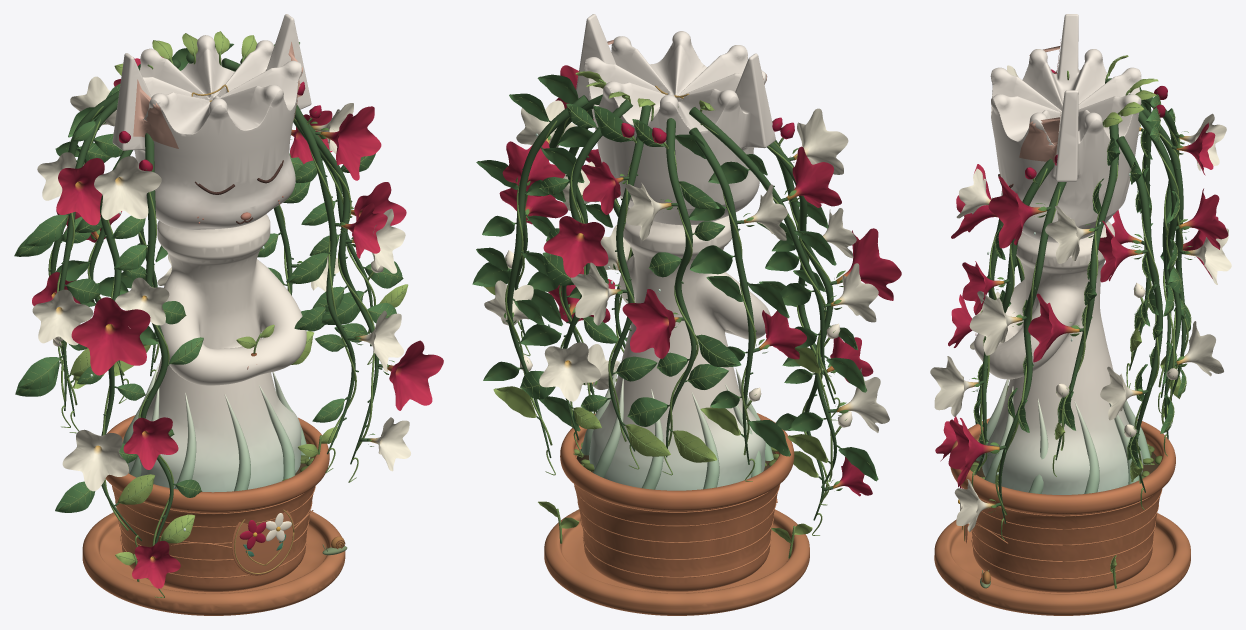
The model's file is mandevilla-living-presence.court.glb.
3 renders of one model, left to right at view 1: azimuth 30°, elevation 25°; view 2: azimuth 150°, elevation 25°; view 3: azimuth 270°, elevation 25°, orthographic. The views are drawn at different scales.
Parts seen in each view (by area): view 1: Anatomy | continuous queen torso and nurturing meditating pa, Anatomy | integral scalloped queen skull and cat ears, Flowers | red five-lobed trumpet flowers, Flowers | white five-lobed trumpet flowers, Earthwork | warm terracotta planter with open interior, Left garden | cupped living leaves, Earthwork | broad hand-thrown saucer, Right garden | cupped living leaves, Left garden | flowing crown-born stems, Right garden | flowing crown-born stems, Emergence | soft root flutes becoming ivory clay, Back garden | cupped living leaves (+10 smaller); view 2: Anatomy | integral scalloped queen skull and cat ears, Earthwork | warm terracotta planter with open interior, Anatomy | continuous queen torso and nurturing meditating pa, Flowers | red five-lobed trumpet flowers, Flowers | white five-lobed trumpet flowers, Left garden | cupped living leaves, Back garden | cupped living leaves, Earthwork | broad hand-thrown saucer, Right garden | cupped living leaves, Left garden | flowing crown-born stems, Back garden | flowing crown-born stems, Right garden | flowing crown-born stems (+11 smaller); view 3: Anatomy | continuous queen torso and nurturing meditating pa, Anatomy | integral scalloped queen skull and cat ears, Earthwork | warm terracotta planter with open interior, Flowers | red five-lobed trumpet flowers, Flowers | white five-lobed trumpet flowers, Earthwork | broad hand-thrown saucer, Right garden | flowing crown-born stems, Back garden | flowing crown-born stems, Emergence | soft root flutes becoming ivory clay, Right garden | cupped living leaves, Back garden | cupped living leaves, Right garden | winding companion tendrils (+12 smaller).
Boxes of the visible parts, box(x1,y1,x2,y2) form: Anatomy | continuous queen torso and nurturing meditating pa: box(127, 214, 306, 492); Anatomy | integral scalloped queen skull and cat ears: box(112, 14, 311, 229); Flowers | red five-lobed trumpet flowers: box(32, 58, 443, 588); Flowers | white five-lobed trumpet flowers: box(32, 76, 410, 491); Earthwork | warm terracotta planter with open interior: box(105, 415, 329, 591); Left garden | cupped living leaves: box(14, 83, 203, 543); Earthwork | broad hand-thrown saucer: box(82, 510, 345, 615); Right garden | cupped living leaves: box(257, 42, 408, 422); Left garden | flowing crown-born stems: box(50, 90, 173, 544); Right garden | flowing crown-born stems: box(221, 58, 379, 464); Emergence | soft root flutes becoming ivory clay: box(122, 364, 310, 491); Back garden | cupped living leaves: box(55, 43, 233, 388); Anatomy | integral scalloped queen skull and cat ears: box(576, 14, 775, 225); Earthwork | warm terracotta planter with open interior: box(560, 413, 794, 591); Anatomy | continuous queen torso and nurturing meditating pa: box(589, 207, 770, 490); Flowers | red five-lobed trumpet flowers: box(499, 65, 901, 496); Flowers | white five-lobed trumpet flowers: box(484, 100, 889, 432); Left garden | cupped living leaves: box(675, 134, 878, 481); Back garden | cupped living leaves: box(520, 103, 741, 462); Earthwork | broad hand-thrown saucer: box(544, 509, 809, 615); Right garden | cupped living leaves: box(472, 74, 627, 431); Left garden | flowing crown-born stems: box(689, 107, 836, 520); Back garden | flowing crown-born stems: box(563, 99, 696, 457); Right garden | flowing crown-born stems: box(507, 94, 633, 457); Anatomy | continuous queen torso and nurturing meditating pa: box(974, 221, 1143, 494); Anatomy | integral scalloped queen skull and cat ears: box(990, 14, 1141, 242); Earthwork | warm terracotta planter with open interior: box(950, 418, 1175, 592); Flowers | red five-lobed trumpet flowers: box(935, 122, 1228, 487); Flowers | white five-lobed trumpet flowers: box(930, 65, 1231, 532); Earthwork | broad hand-thrown saucer: box(934, 513, 1190, 615); Right garden | flowing crown-born stems: box(974, 124, 1162, 523); Back garden | flowing crown-born stems: box(1128, 89, 1186, 439); Emergence | soft root flutes becoming ivory clay: box(976, 379, 1151, 493); Right garden | cupped living leaves: box(978, 137, 1162, 481); Back garden | cupped living leaves: box(1146, 94, 1190, 433); Right garden | winding companion tendrils: box(979, 136, 1159, 515).
Size of the model in its own units: 0.7667 by 1 by 0.5291.
